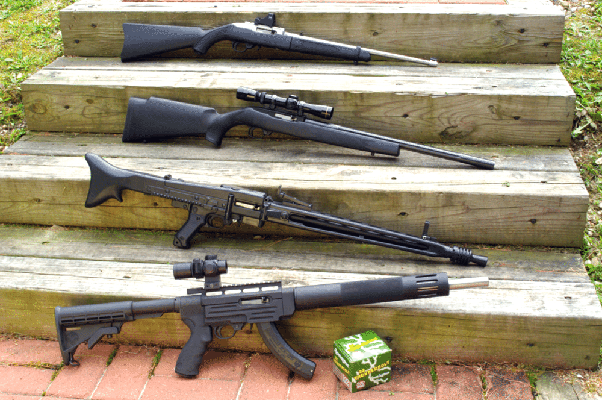Rifle: (52, 257, 493, 384), (82, 151, 493, 270), (123, 88, 498, 176), (119, 10, 447, 72)
